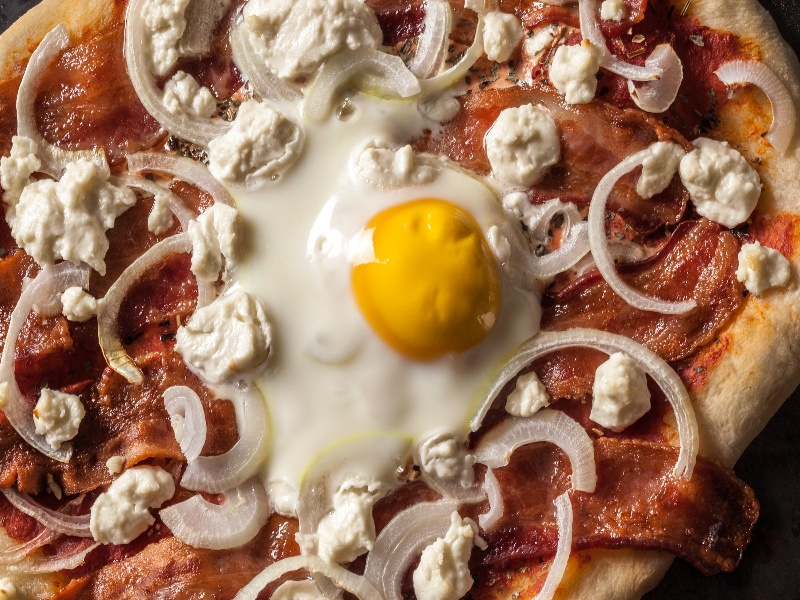oeuf: (325, 192, 515, 382)
